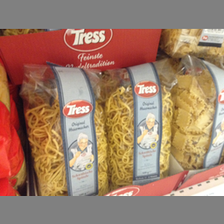pasta: (19, 64, 109, 195), (105, 63, 175, 188), (170, 55, 224, 169)
